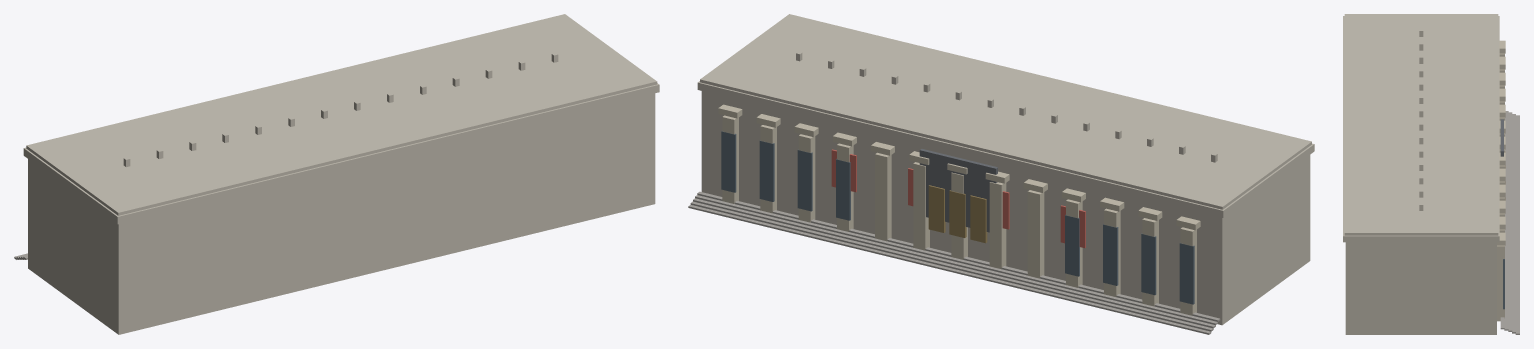
The model's file is met.glb.
3 renders of one model, left to right at view 1: azimuth 30°, elevation 25°; view 2: azimuth 150°, elevation 25°; view 3: azimuth 270°, elevation 25°, orthographic. The views are drawn at different scales.
Visible parts, largest first — view 1: Mesh; view 2: Mesh; view 3: Mesh.
Boxes of the visible parts, x1,y1,x2,y2 form: Mesh: [14, 14, 659, 334]; Mesh: [688, 14, 1314, 334]; Mesh: [1343, 14, 1519, 334].
Bounding box in the file's own units: 152 × 34.75 × 51.35.
